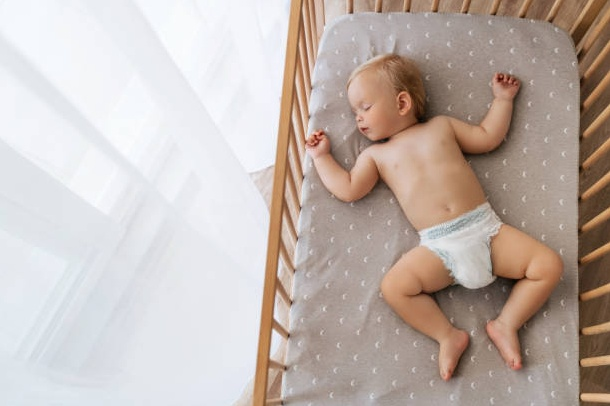baby: (306, 54, 562, 379)
crib: (253, 0, 609, 404)
